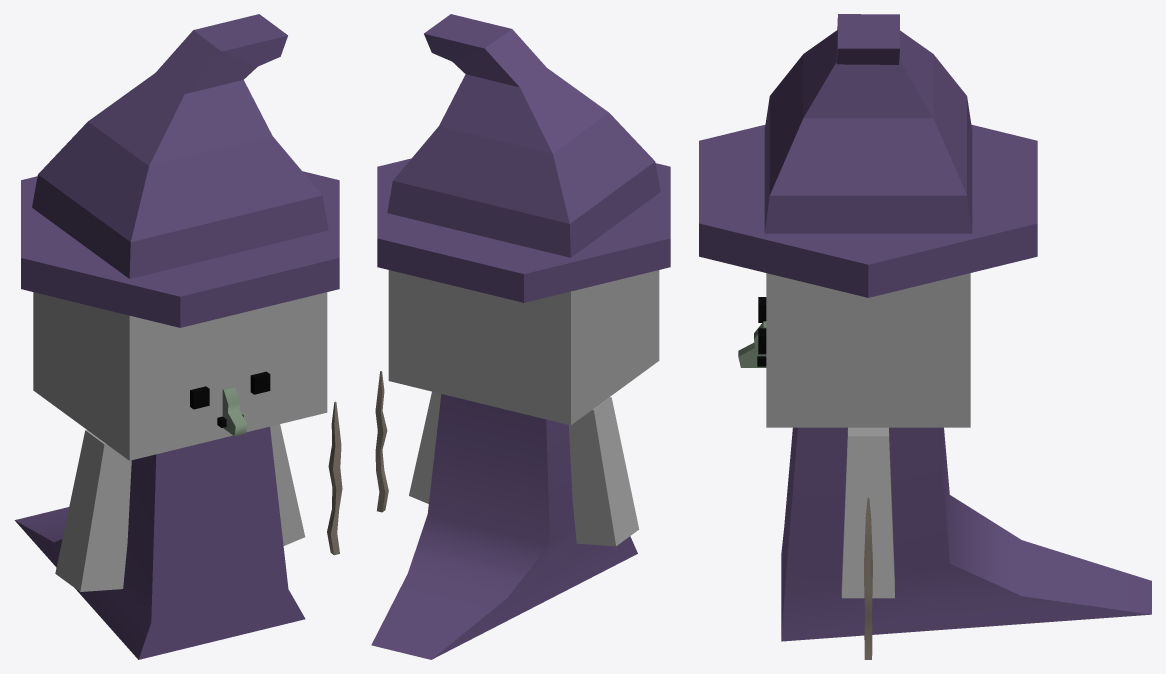
Rendered from WitchARCharacter.fbx.
3 views of the same model, side by side, from view 1: azimuth 30°, elevation 25°; view 2: azimuth 150°, elevation 25°; view 3: azimuth 270°, elevation 25° (orthographic). The views are drawn at different scales.
Visible parts, largest first — view 1: Hat_Top, Head, Robe, Hat_Brim, Left_Arm, Right_Arm, Wand, Nose; view 2: Hat_Top, Robe, Head, Hat_Brim, Left_Arm, Right_Arm, Wand; view 3: Robe, Hat_Top, Head, Hat_Brim, Right_Arm, Wand.
Part boxes in pixels (x1,y1,x2,y2): Hat_Top: [32, 14, 328, 278]; Head: [33, 292, 327, 460]; Robe: [14, 426, 305, 659]; Hat_Brim: [21, 171, 339, 327]; Left_Arm: [55, 430, 131, 591]; Right_Arm: [270, 424, 305, 545]; Wand: [327, 401, 342, 555]; Nose: [222, 386, 247, 436]; Hat_Top: [387, 14, 660, 257]; Robe: [371, 394, 637, 659]; Head: [388, 270, 659, 425]; Hat_Brim: [377, 158, 670, 302]; Left_Arm: [568, 397, 639, 546]; Right_Arm: [409, 391, 441, 503]; Wand: [375, 371, 388, 512]; Robe: [781, 427, 1151, 641]; Hat_Top: [764, 14, 972, 233]; Head: [766, 273, 970, 427]; Hat_Brim: [699, 124, 1037, 297]; Right_Arm: [841, 427, 894, 598]; Wand: [864, 497, 872, 659].
Bounding box in the file's own units: 2.16 × 3.62 × 2.49.
